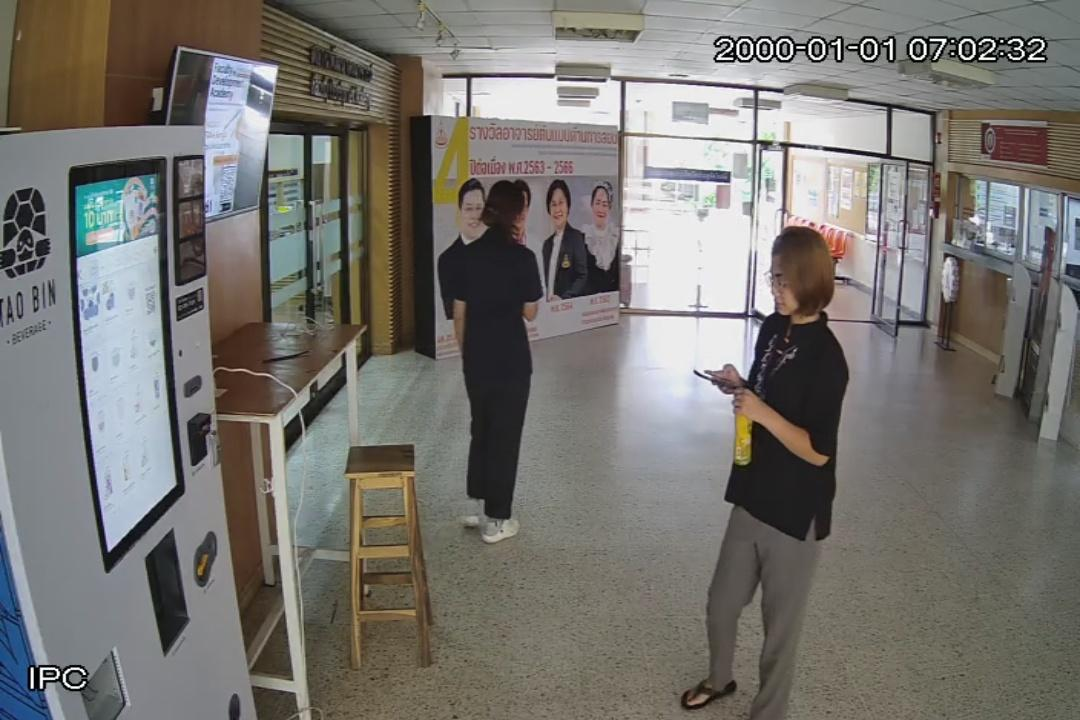normal: (697, 228, 844, 720), (451, 177, 543, 539)
